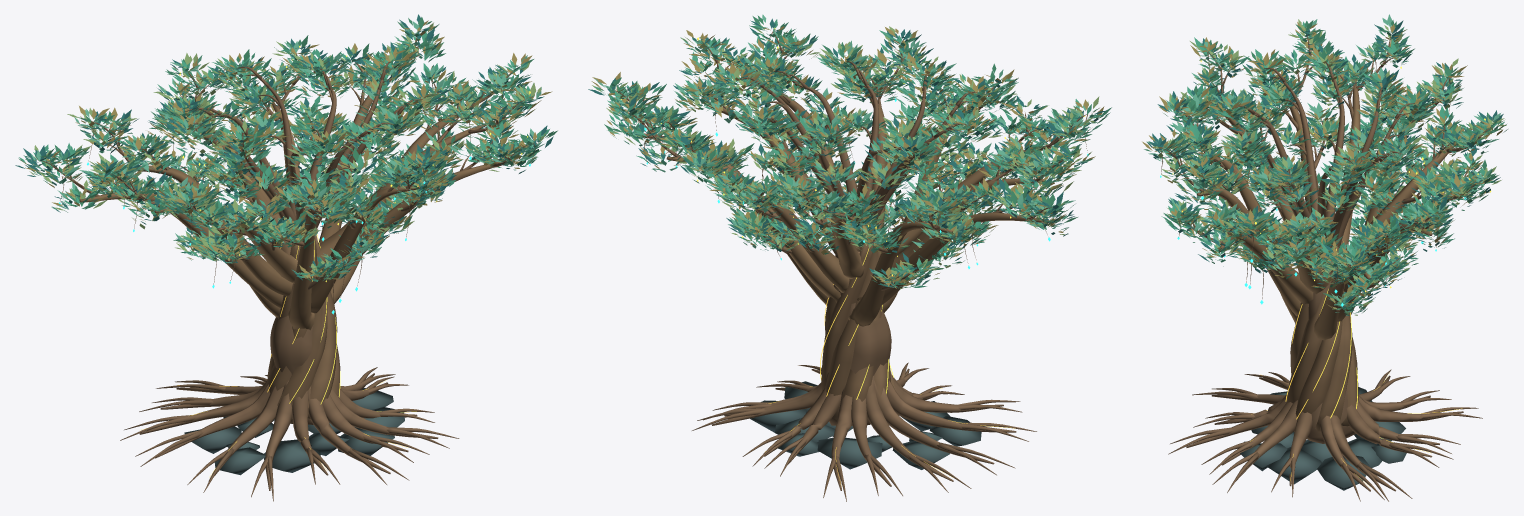
File: yggdrasil-mobile.glb
3 views of the same model, side by side, from view 1: azimuth 30°, elevation 25°; view 2: azimuth 150°, elevation 25°; view 3: azimuth 270°, elevation 25° (orthographic).
Parts seen in each view (by area): view 1: 02 | Jade and bronze leaf canopy, 01 | Heartwood and roots, 05 | Rootstone foundation, 03 | Golden sap and seed lights; view 2: 02 | Jade and bronze leaf canopy, 01 | Heartwood and roots, 05 | Rootstone foundation, 03 | Golden sap and seed lights; view 3: 02 | Jade and bronze leaf canopy, 01 | Heartwood and roots, 05 | Rootstone foundation, 03 | Golden sap and seed lights.
Part boxes in pixels (<box>): 02 | Jade and bronze leaf canopy: <box>15,14,557,281</box>; 01 | Heartwood and roots: <box>39,37,535,501</box>; 05 | Rootstone foundation: <box>184,388,404,475</box>; 03 | Golden sap and seed lights: <box>70,46,530,477</box>; 02 | Jade and bronze leaf canopy: <box>588,14,1111,289</box>; 01 | Heartwood and roots: <box>614,31,1087,501</box>; 05 | Rootstone foundation: <box>750,381,981,469</box>; 03 | Golden sap and seed lights: <box>620,28,1085,486</box>; 02 | Jade and bronze leaf canopy: <box>1142,14,1507,315</box>; 01 | Heartwood and roots: <box>1160,34,1492,501</box>; 05 | Rootstone foundation: <box>1240,387,1406,490</box>; 03 | Golden sap and seed lights: <box>1172,59,1491,486</box>.
Size of the model in its own units: 17.14 by 11.9 by 11.09.
